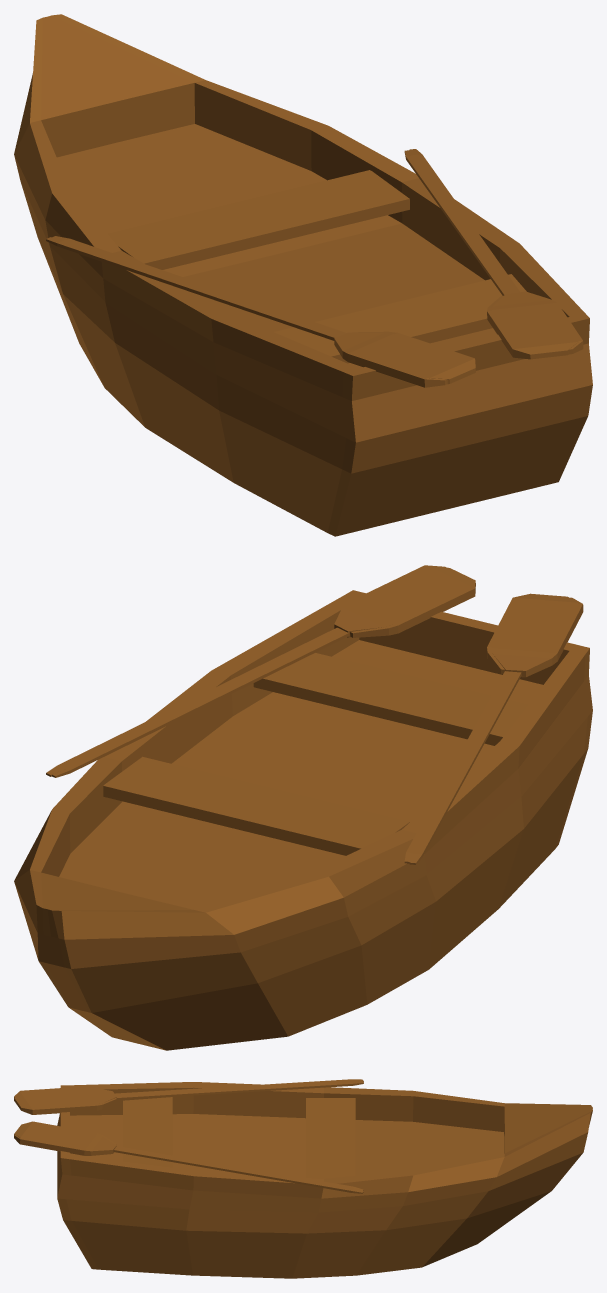
Rendered from Canoe02.fbx.
3 renders of one model, top to bottom at view 1: azimuth 30°, elevation 25°; view 2: azimuth 150°, elevation 25°; view 3: azimuth 270°, elevation 25°, orthographic. The views are drawn at different scales.
Visible parts, largest first — view 1: Canoe; view 2: Canoe; view 3: Canoe.
Part boxes in pixels (<box>): Canoe: <box>14,14,592,536</box>; Canoe: <box>14,565,592,1050</box>; Canoe: <box>14,1079,592,1278</box>.
Size of the model in its own units: 192 by 101 by 416.
